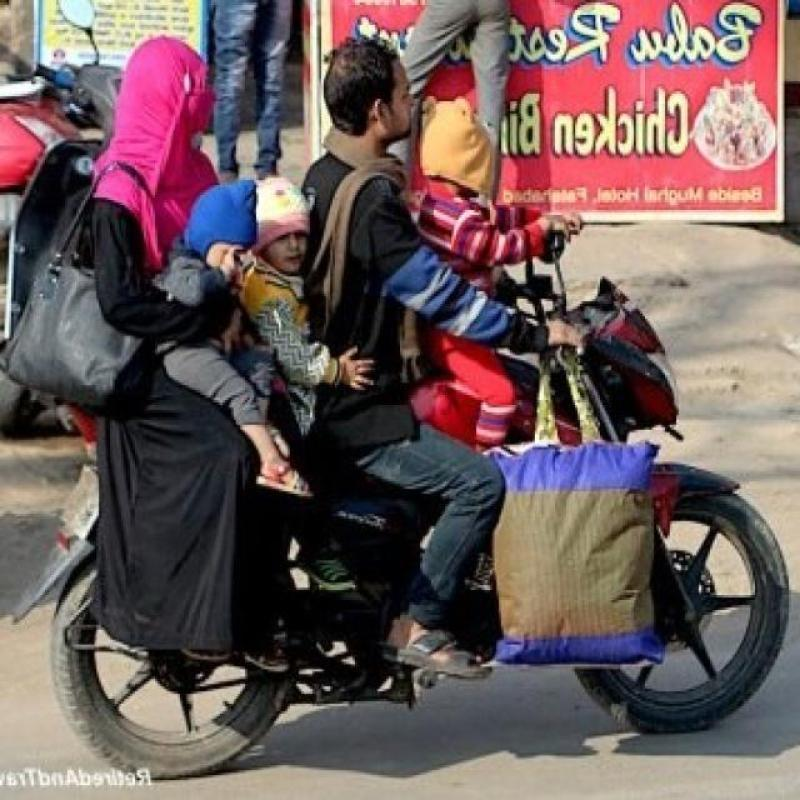nohelmet: (110, 24, 225, 176), (327, 21, 421, 166)
